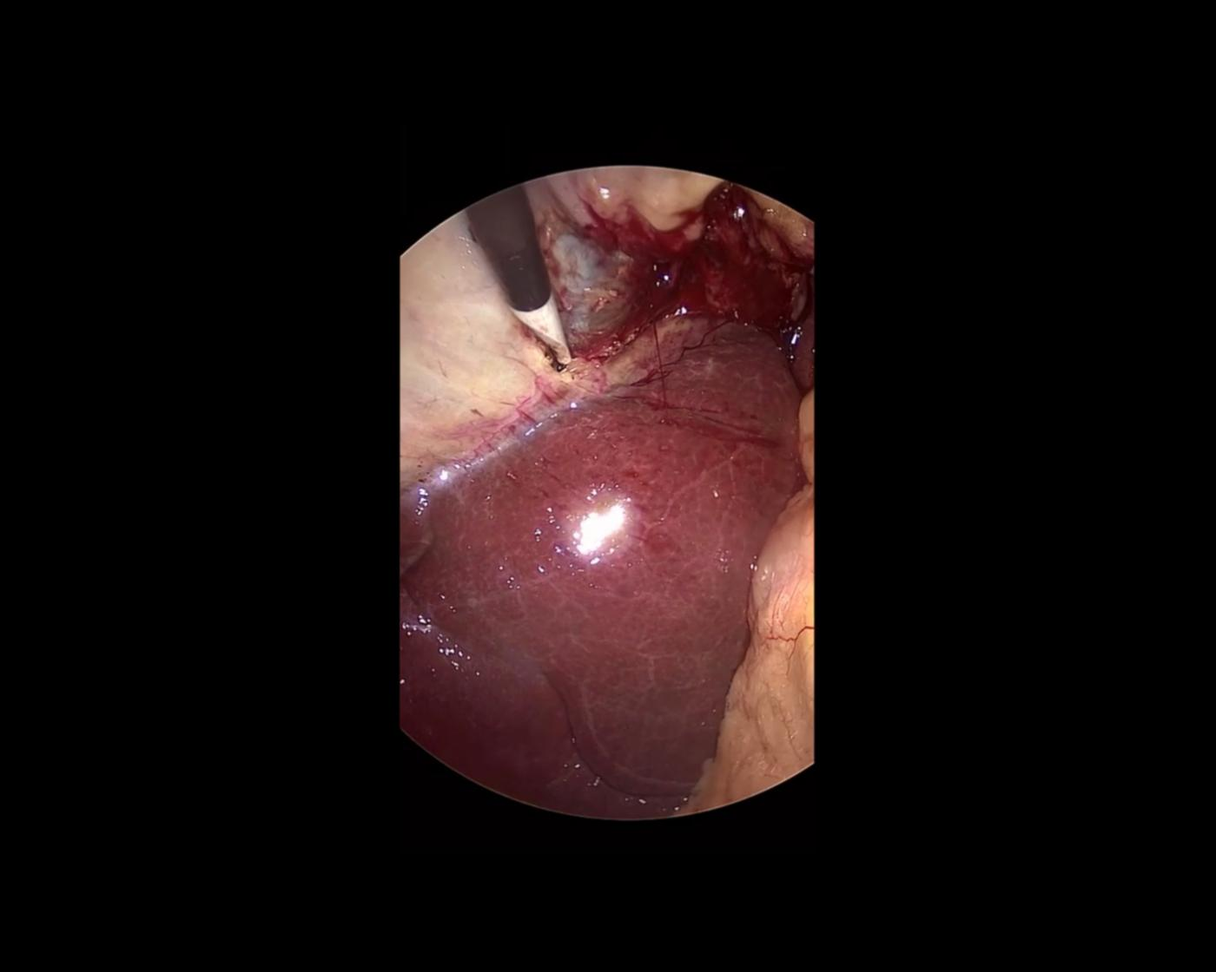Cautery: (463, 182, 598, 382)
Gallbladder: (288, 75, 763, 502)
Liver: (333, 240, 835, 847)
